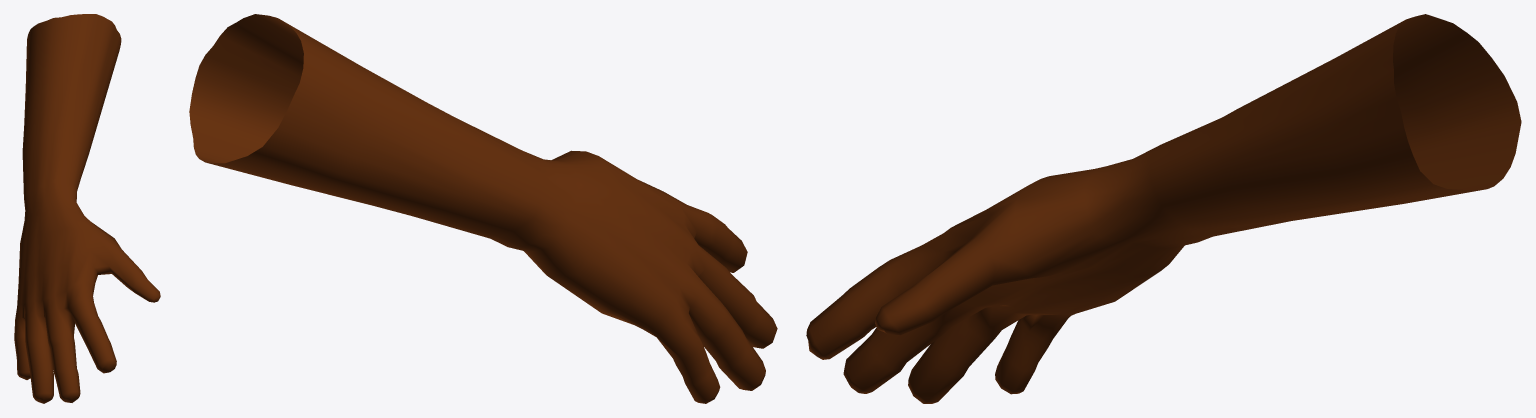
Rendered from glove right hand_1_mesh_only.fbx.
3 renders of one model, left to right at view 1: azimuth 30°, elevation 25°; view 2: azimuth 150°, elevation 25°; view 3: azimuth 270°, elevation 25°, orthographic. The views are drawn at different scales.
Parts seen in each view (by area): view 1: glove right hand tight; view 2: glove right hand tight; view 3: glove right hand tight.
Boxes of the visible parts, x1,y1,x2,y2 form: glove right hand tight: (14, 14, 160, 403); glove right hand tight: (189, 14, 777, 403); glove right hand tight: (806, 14, 1521, 403).
Size of the model in its own units: 204 by 247 by 304.
